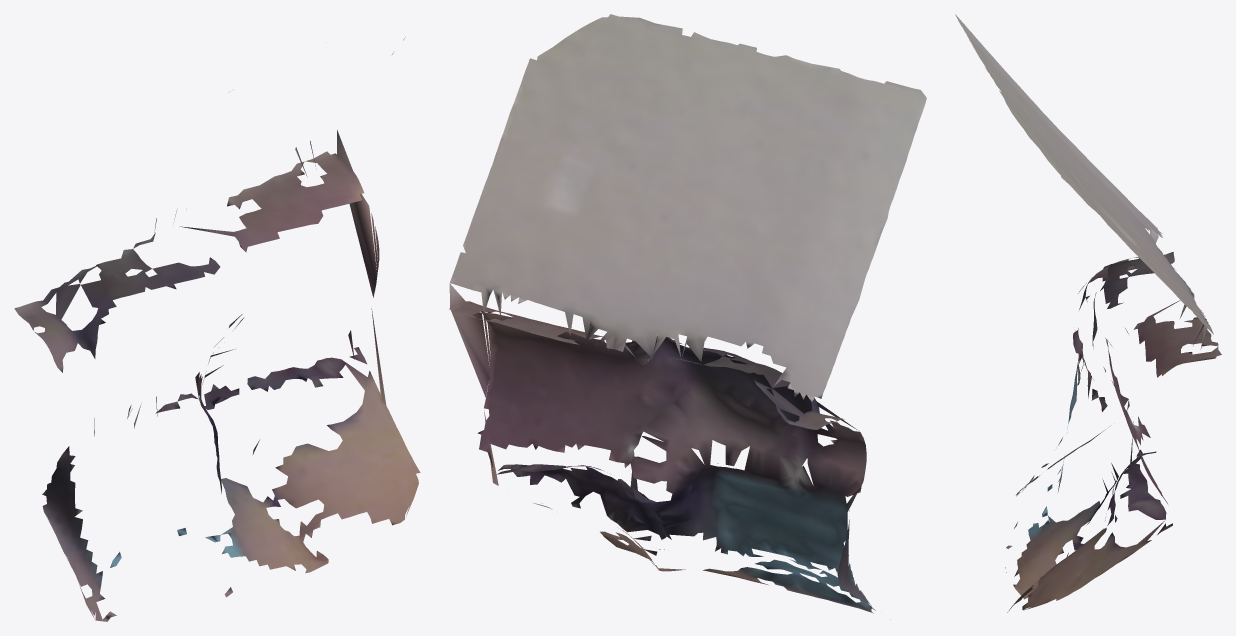
File: ballPivot0.gltf
3 renders of one model, left to right at view 1: azimuth 30°, elevation 25°; view 2: azimuth 150°, elevation 25°; view 3: azimuth 270°, elevation 25°, orthographic. The views are drawn at different scales.
Bounding box in the file's own units: 1.04 × 1.55 × 0.7365.
